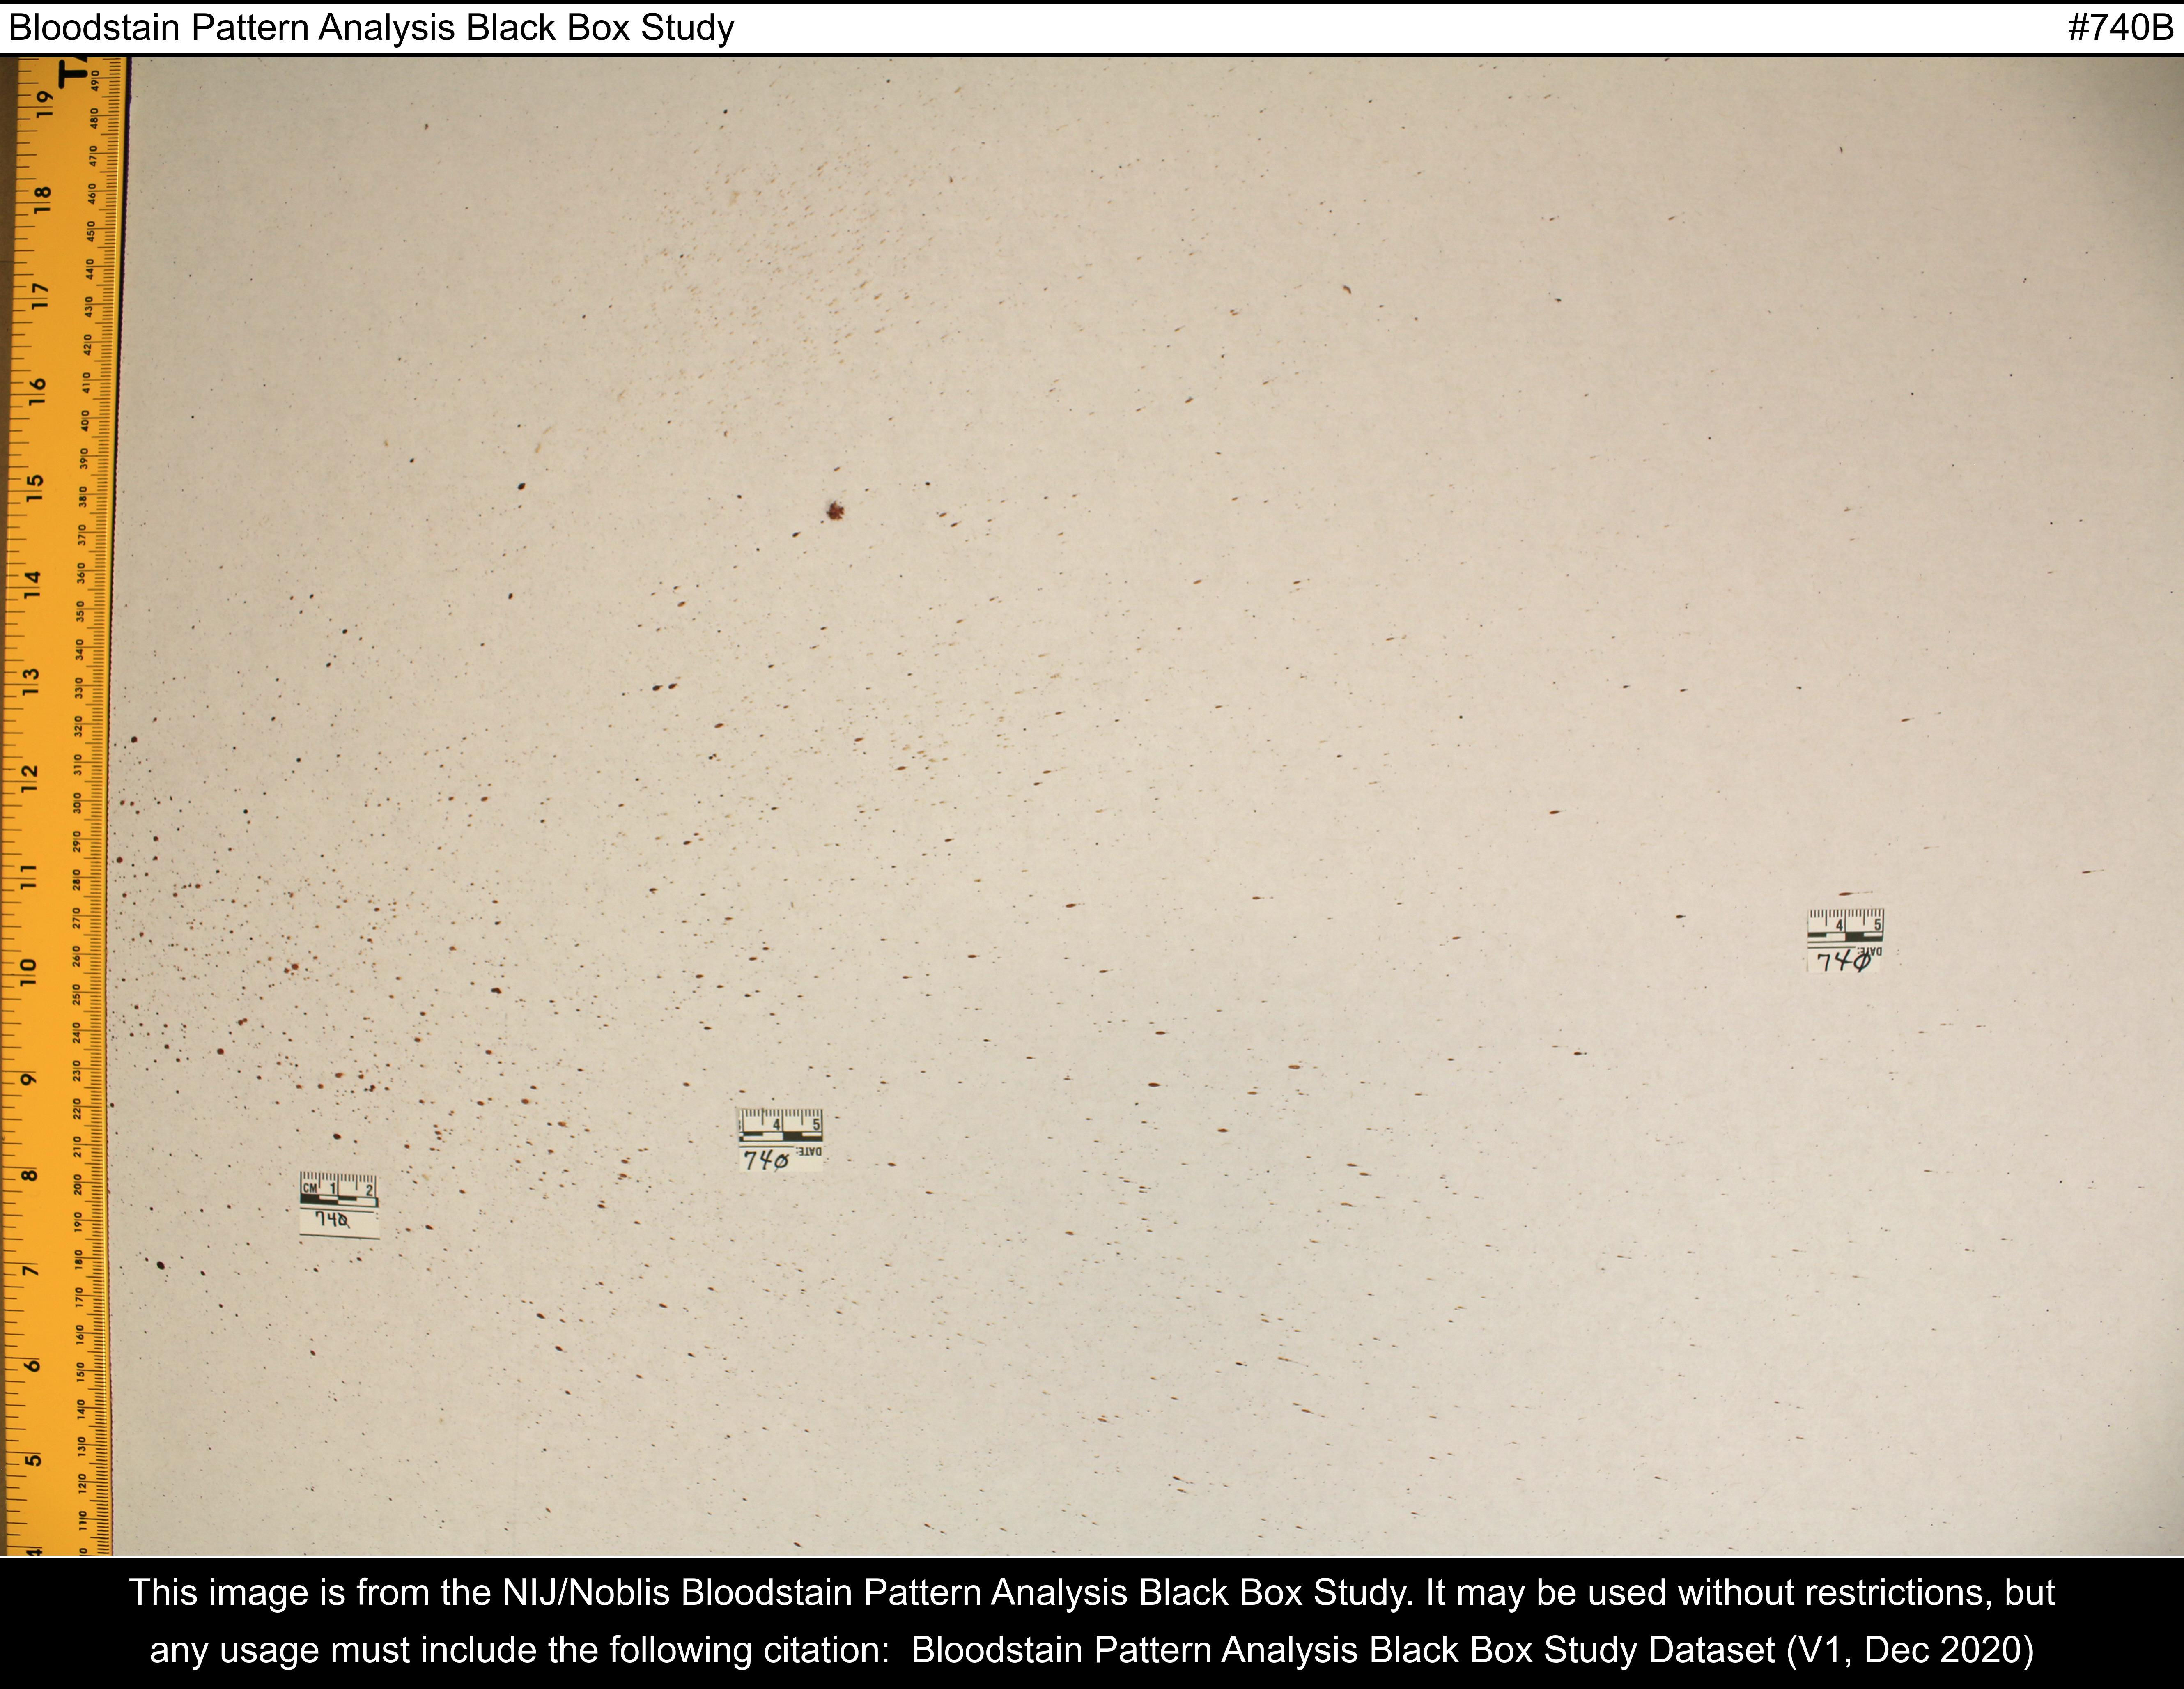Impact: (115, 78, 2134, 1462)
